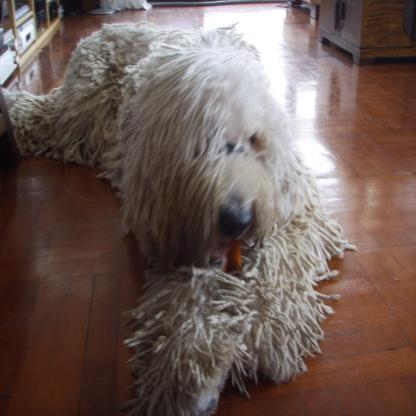komondor: (0, 22, 356, 414)
